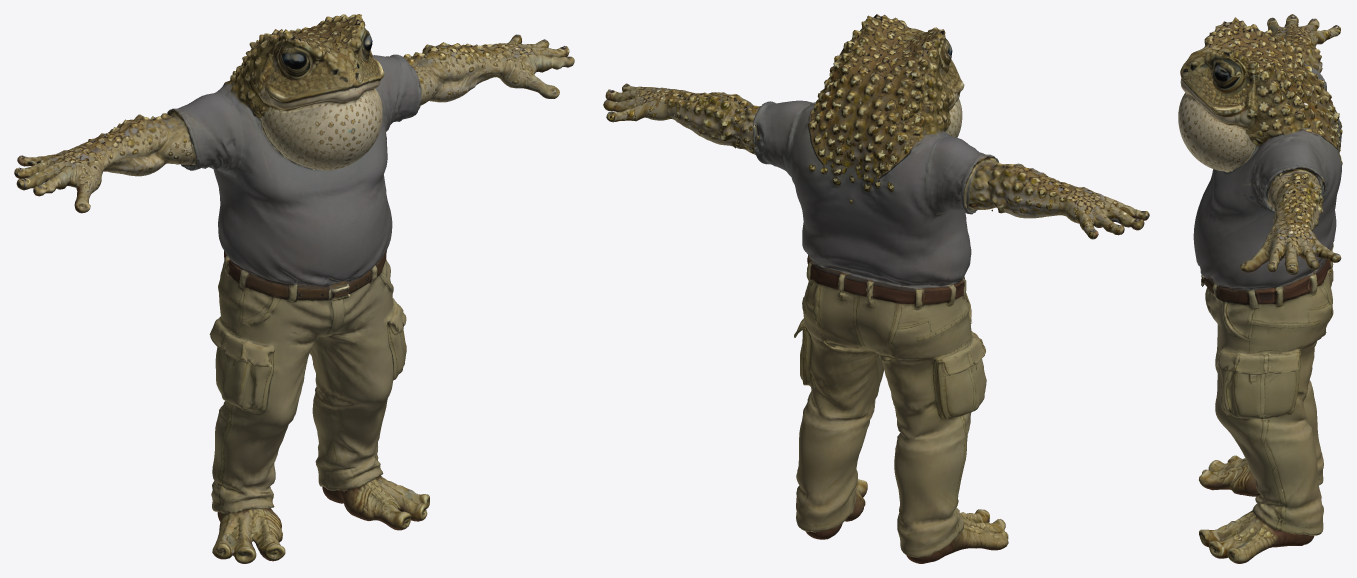
File: 14_Toad.fbx
3 views of the same model, side by side, from view 1: azimuth 30°, elevation 25°; view 2: azimuth 150°, elevation 25°; view 3: azimuth 270°, elevation 25° (orthographic). The views are drawn at different scales.
Visible parts, largest first — view 1: texture_mapping; view 2: texture_mapping; view 3: texture_mapping.
Boxes of the visible parts, x1,y1,x2,y2 form: texture_mapping: (14,14,574,563); texture_mapping: (603,14,1149,563); texture_mapping: (1178,14,1342,563).
Bounding box in the file's own units: 0.999 × 0.8906 × 0.2743.
Materials: 1 (1 with a texture image).
